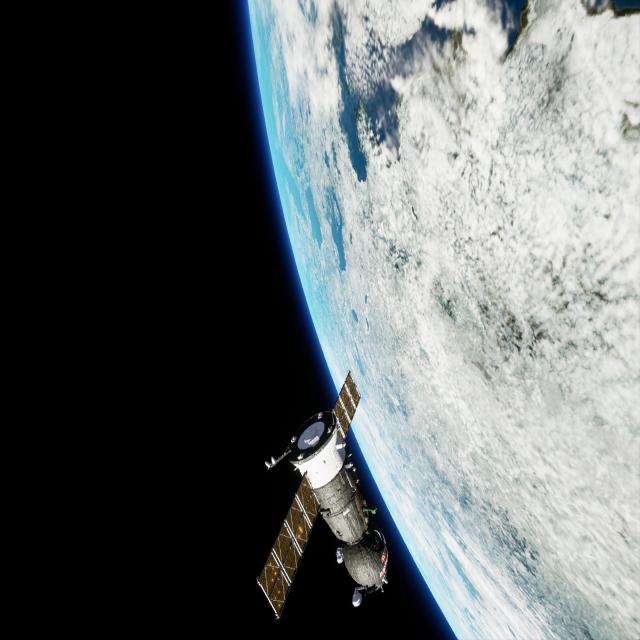Satellites revolving around earth: (246, 1, 638, 638), (254, 369, 390, 622)
